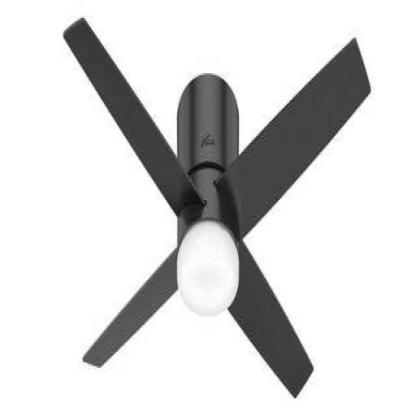ceiling-fan: (63, 15, 372, 399)
